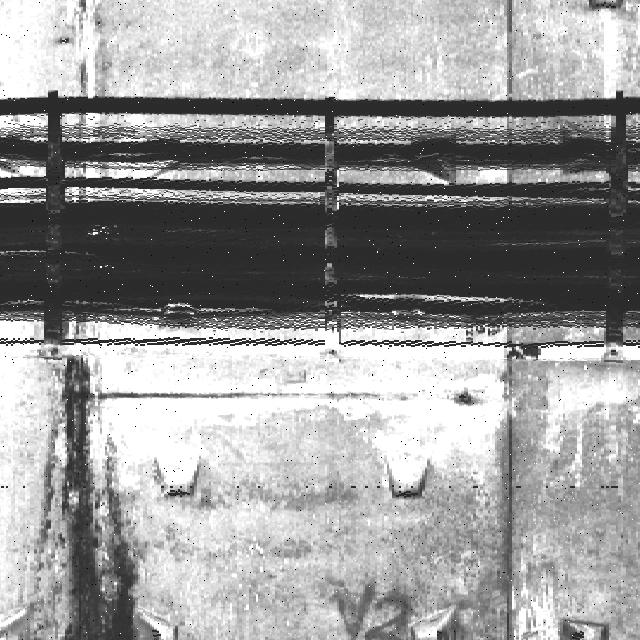leakage: (22, 336, 167, 640)
